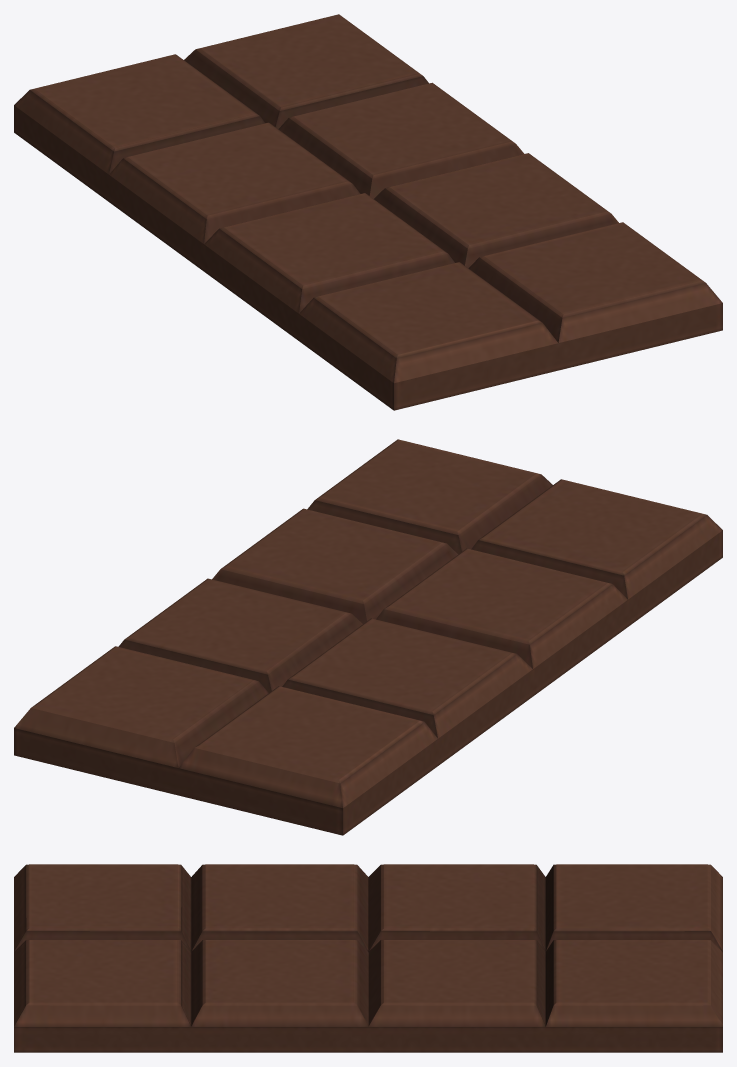
The model's file is qiaokeli.fbx.
3 views of the same model, one above another, from view 1: azimuth 30°, elevation 25°; view 2: azimuth 150°, elevation 25°; view 3: azimuth 270°, elevation 25° (orthographic). The views are drawn at different scales.
Parts seen in each view (by area): view 1: qiaokeli; view 2: qiaokeli; view 3: qiaokeli.
Part boxes in pixels (bbox=[...]): qiaokeli: bbox=[14, 14, 722, 410]; qiaokeli: bbox=[14, 439, 722, 835]; qiaokeli: bbox=[14, 864, 722, 1052].
Size of the model in its own units: 6.28 by 0.8552 by 12.56.
Materials: 1 (1 with a texture image).
